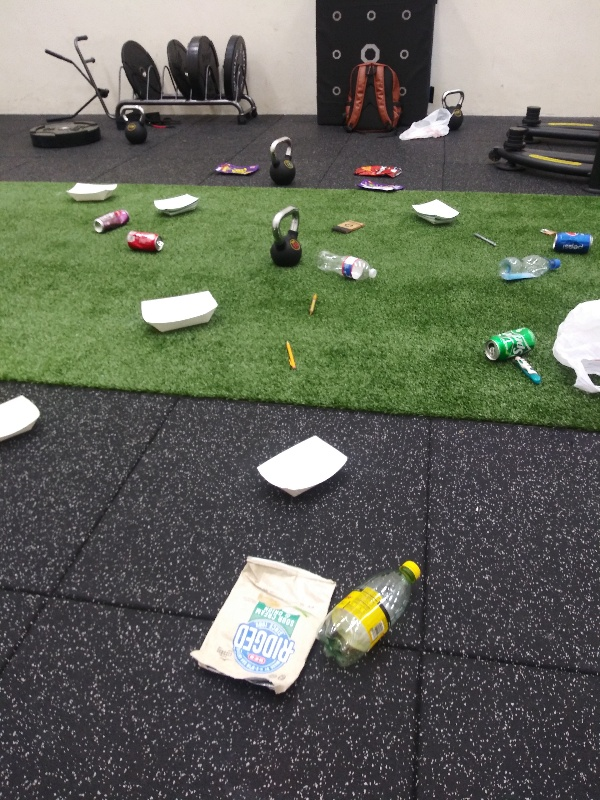bag: (191, 550, 342, 707), (346, 157, 405, 178), (210, 158, 260, 181), (356, 176, 406, 198)
bottle: (313, 551, 431, 677), (309, 248, 380, 288), (497, 254, 570, 280)
can: (478, 325, 541, 364), (546, 229, 596, 259), (90, 206, 134, 237), (124, 228, 169, 258)
plate: (248, 431, 352, 503), (138, 286, 222, 335), (1, 392, 43, 451), (62, 177, 124, 209), (405, 195, 462, 228), (148, 190, 204, 217)
